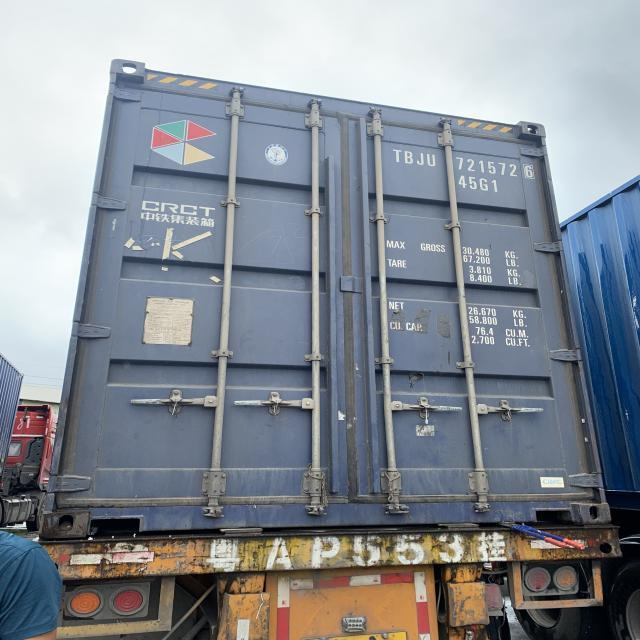ISO: (458, 176, 498, 192)
container_number: (398, 154, 537, 177)
